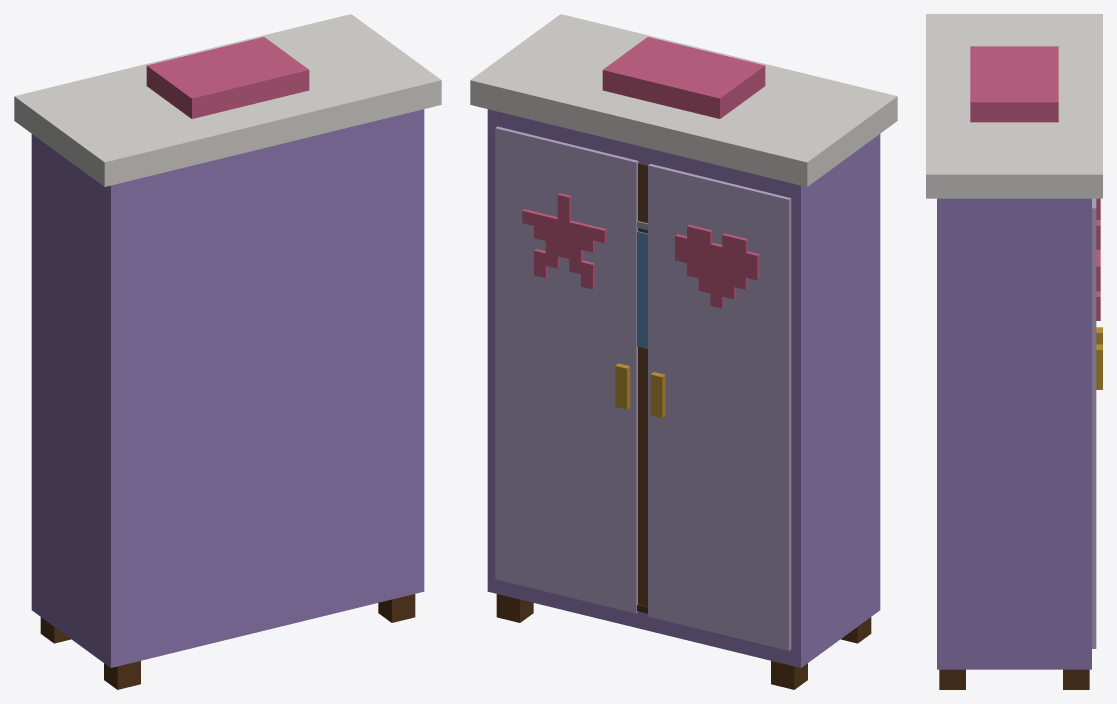
The model's file is ncb-wardrobe-lilac.glb.
The picture shows the model from 3 angles, left to right: view 1: azimuth 30°, elevation 25°; view 2: azimuth 150°, elevation 25°; view 3: azimuth 270°, elevation 25°; orthographic projection. The views are drawn at different scales.
Visible parts, largest first — view 1: box-prop; view 2: box-prop, part-door-left, part-door-right; view 3: box-prop, part-door-right.
Boxes of the visible parts, x1=… form: box-prop: x1=14, y1=14, x2=441, y2=689; box-prop: x1=470, y1=14, x2=897, y2=689; part-door-left: x1=648, y1=164, x2=791, y2=650; part-door-right: x1=495, y1=126, x2=638, y2=613; box-prop: x1=926, y1=14, x2=1102, y2=689; part-door-right: x1=1092, y1=198, x2=1102, y2=648.
Size of the model in its own units: 1.72 by 2.72 by 0.8.
